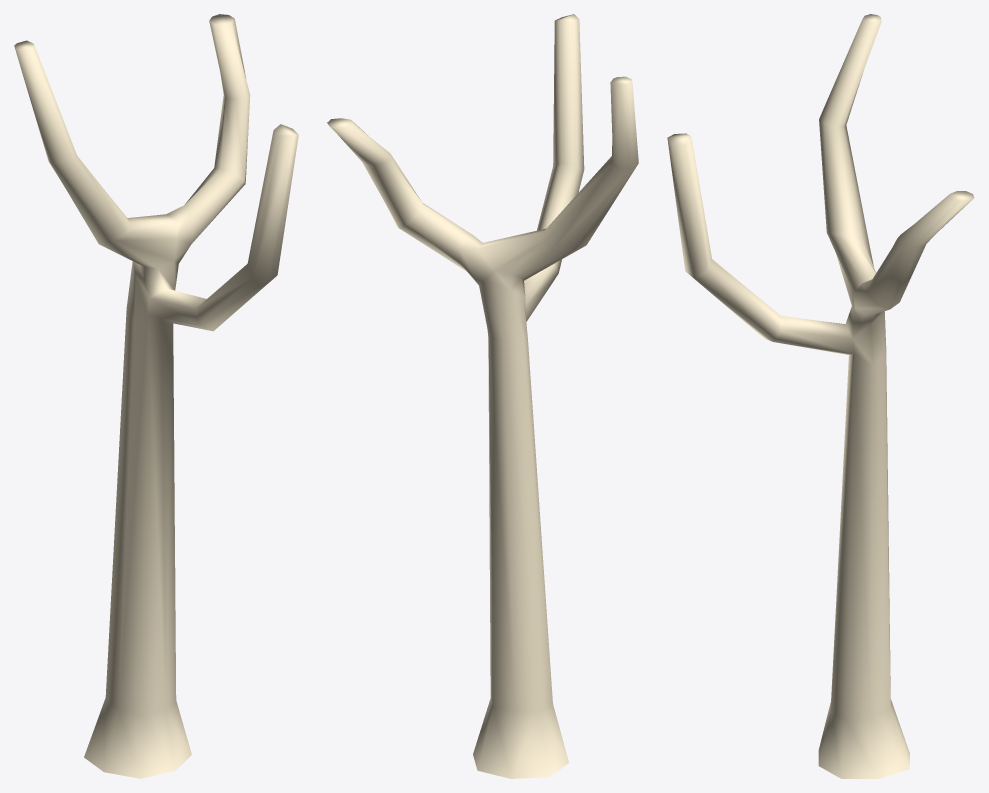
Rendered from TreeTrunk_21.fbx.
The picture shows the model from 3 angles, left to right: view 1: azimuth 30°, elevation 25°; view 2: azimuth 150°, elevation 25°; view 3: azimuth 270°, elevation 25°; orthographic projection. The views are drawn at different scales.
Parts seen in each view (by area): view 1: TreeTrunk_21; view 2: TreeTrunk_21; view 3: TreeTrunk_21.
Part boxes in pixels (x1,y1,x2,y2): TreeTrunk_21: (14, 14, 298, 778); TreeTrunk_21: (327, 14, 638, 778); TreeTrunk_21: (667, 14, 974, 778).
Bounding box in the file's own units: 155 × 408 × 164.
